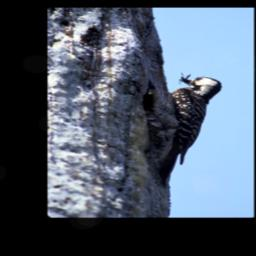Woodpecker: (143, 71, 223, 189)
